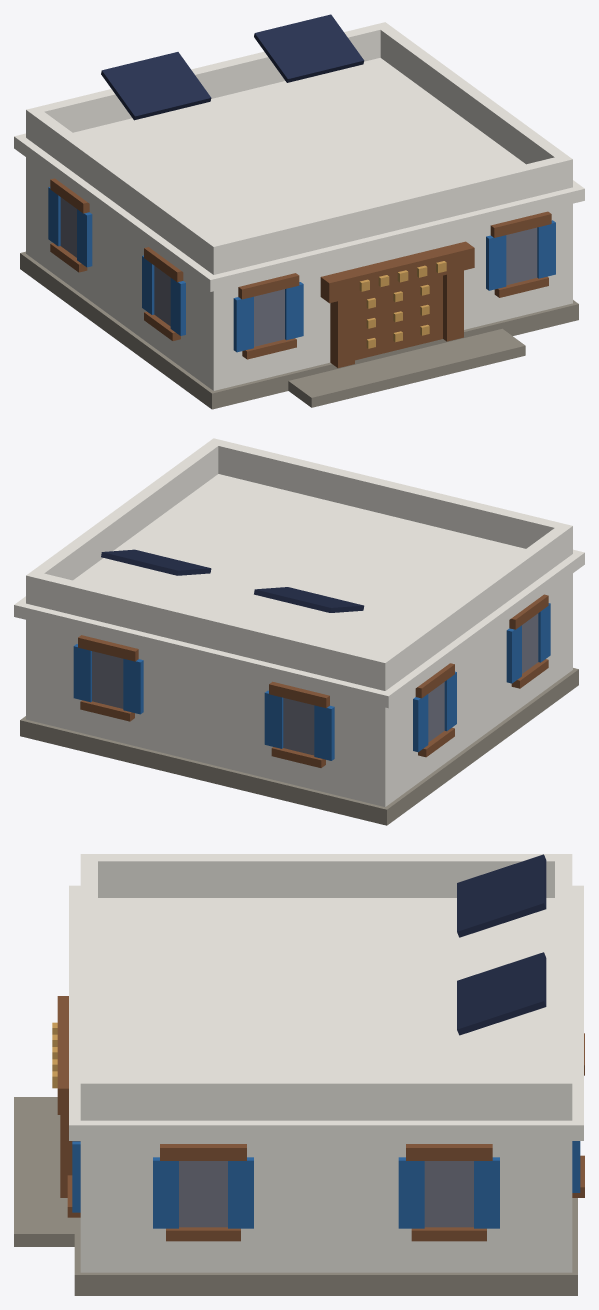
The model's file is house-1x1-1f-swahili-a-solar.glb.
3 renders of one model, top to bottom at view 1: azimuth 30°, elevation 25°; view 2: azimuth 150°, elevation 25°; view 3: azimuth 270°, elevation 25°, orthographic. The views are drawn at different scales.
Parts seen in each view (by area): view 1: house-1x1-1f-swahili-a-solar; view 2: house-1x1-1f-swahili-a-solar; view 3: house-1x1-1f-swahili-a-solar.
Boxes of the visible parts, left/top/right/bottom form: house-1x1-1f-swahili-a-solar: left=14, top=14, right=584, bottom=409; house-1x1-1f-swahili-a-solar: left=14, top=438, right=584, bottom=825; house-1x1-1f-swahili-a-solar: left=14, top=854, right=584, bottom=1295.
Size of the model in its own units: 0.984 by 0.4786 by 0.987.
Materials: 1 (1 with a texture image).
